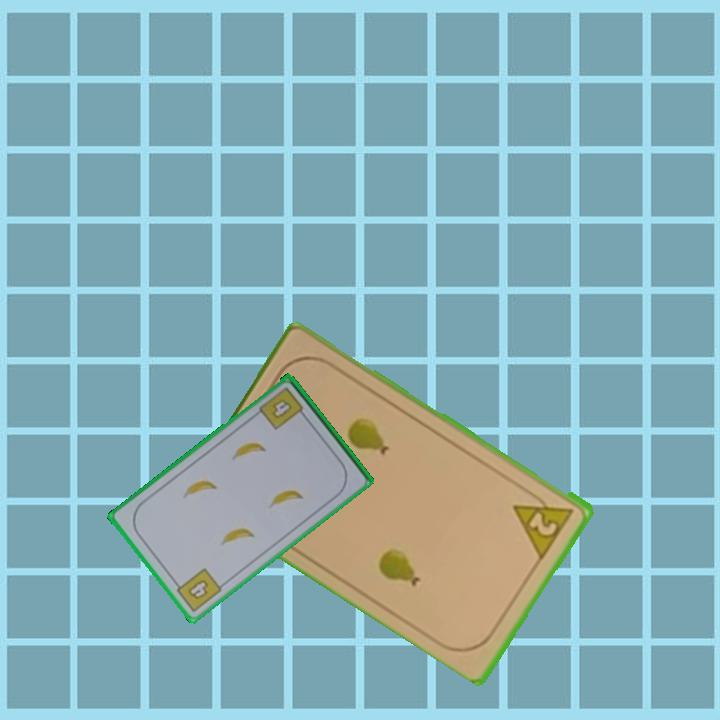2p: (510, 486, 579, 561)
4b: (170, 564, 225, 615), (268, 398, 293, 421)
